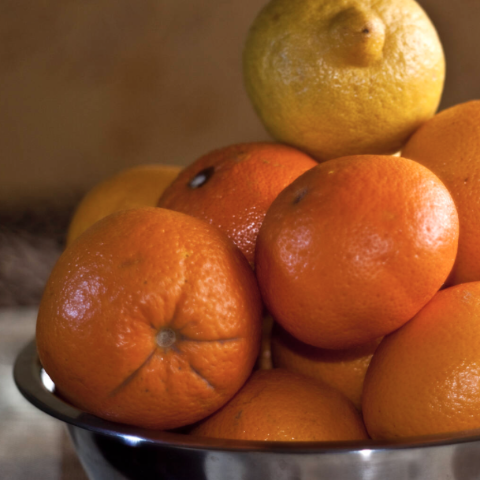orange: (24, 201, 267, 446), (235, 116, 464, 358)
